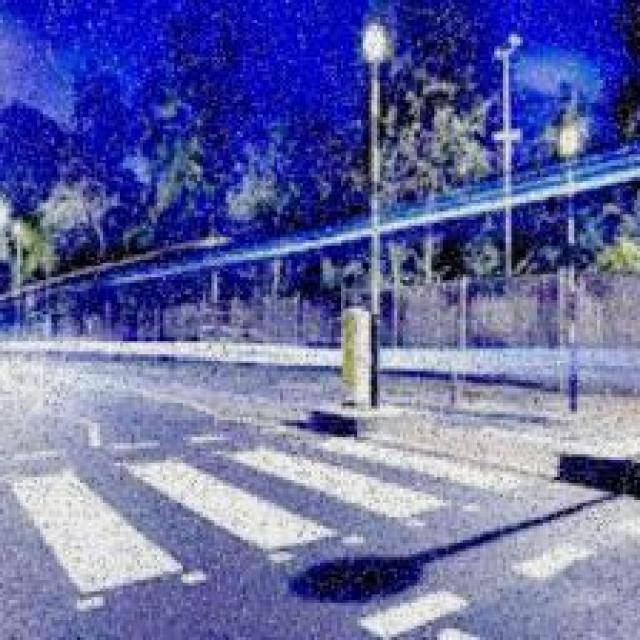crosswalk: (16, 434, 542, 617)
